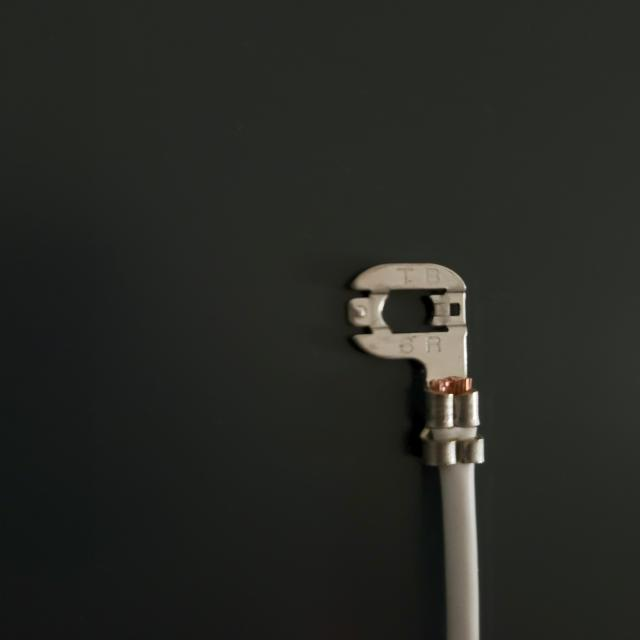good: (6, 8, 640, 640)
